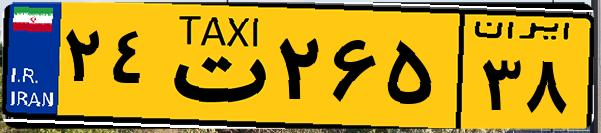2: (270, 28, 330, 110), (57, 26, 110, 100)
3: (475, 38, 525, 113)
4: (110, 28, 158, 98)
5: (385, 28, 445, 110)
6: (330, 28, 385, 110)
8: (525, 38, 570, 115)
ت: (158, 12, 270, 120)
